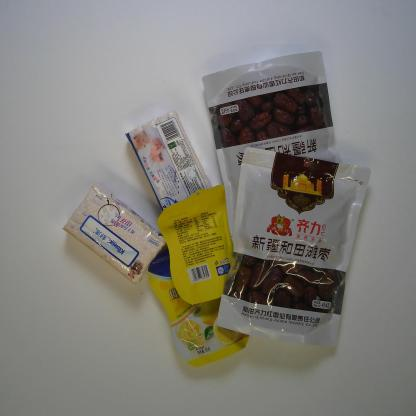Dried Food: (213, 144, 373, 354), (200, 47, 352, 255)
Dried Fruit: (144, 235, 254, 367), (156, 181, 250, 305)
Tissue: (60, 184, 170, 284), (124, 110, 217, 228)
